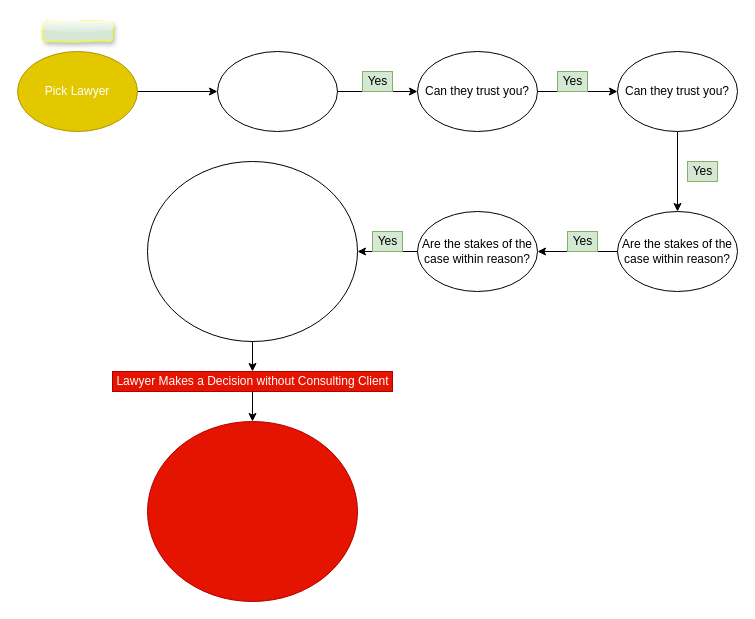
Image size: 755x619. Some labels were removed from this diagram. Here are the shapes that lost their labels. From the top down, the centre of each, then its label:
the point at 78,32: Start Here
the point at 277,91: Does the Lawyer Want Your Case?
the point at 252,251: Pick where you want to sue How much to sue for Together with your Lawyer
the point at 252,511: Malpractice
